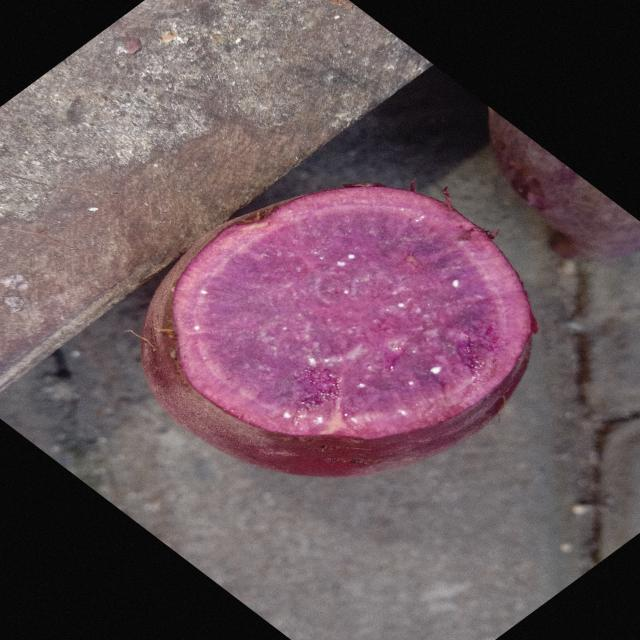Healthy Sweet Potato: (173, 186, 532, 439)
